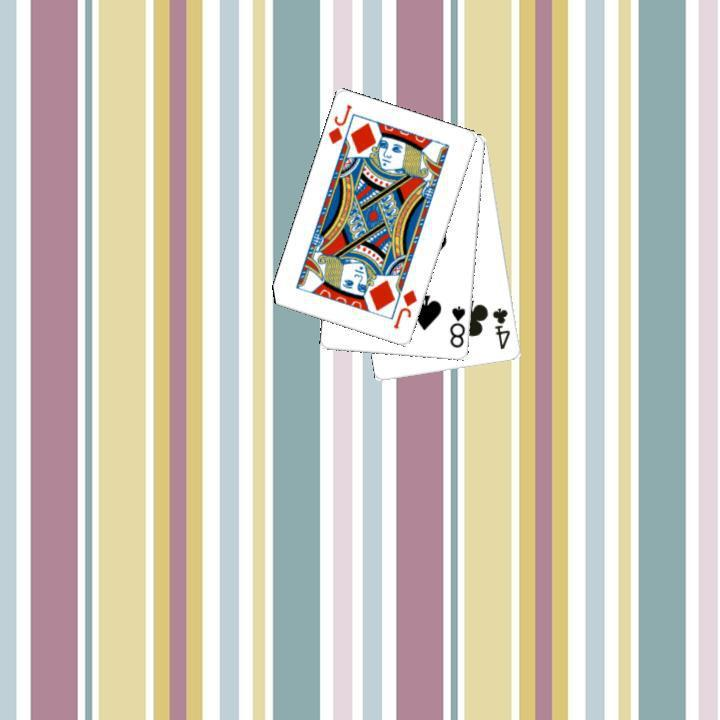4: (488, 304, 513, 352)
8: (446, 302, 468, 350)
J: (324, 100, 354, 147), (389, 286, 420, 331)
